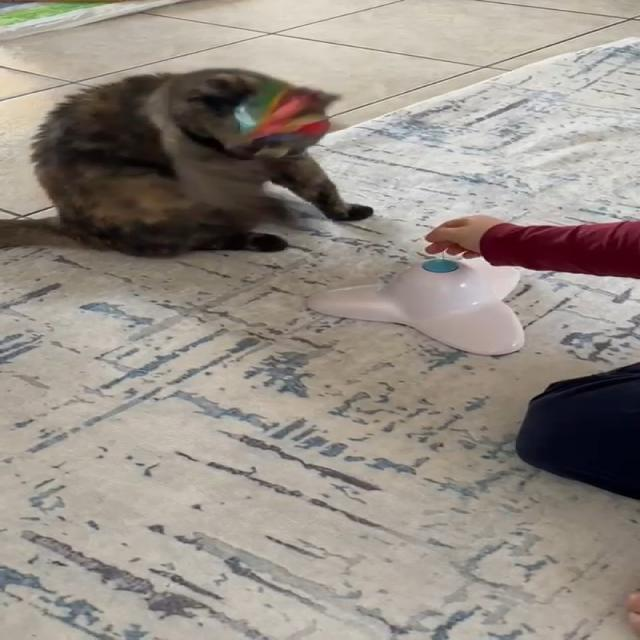authorized: (0, 66, 373, 257)
